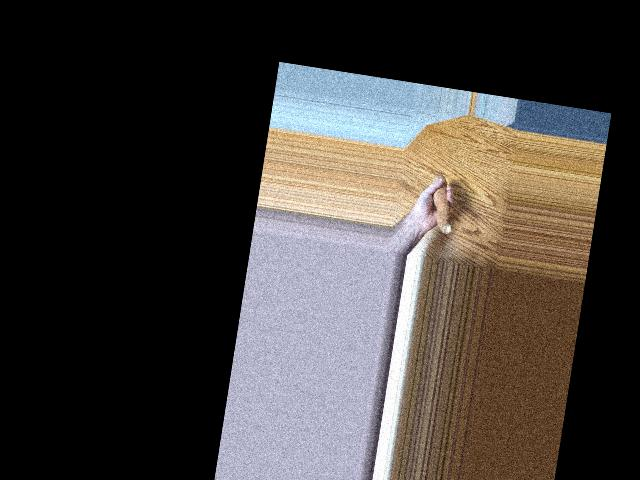sweet_potato: (425, 171, 459, 237)
